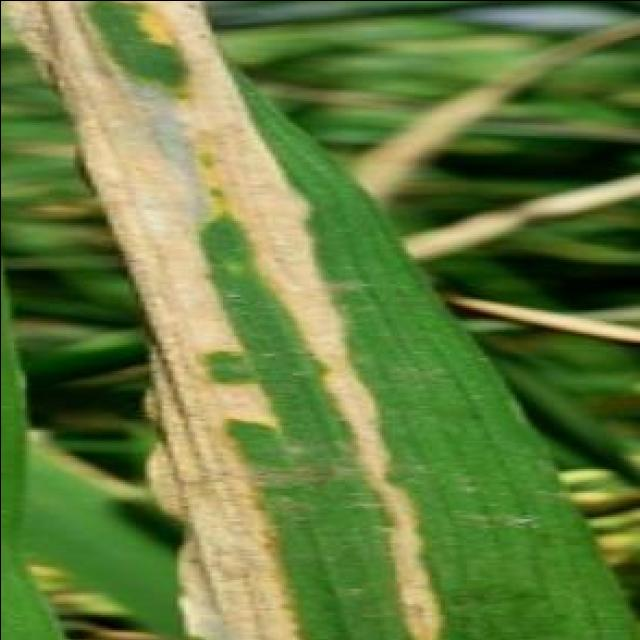Bacterial_Leaf_Blight: (143, 90, 508, 640)
